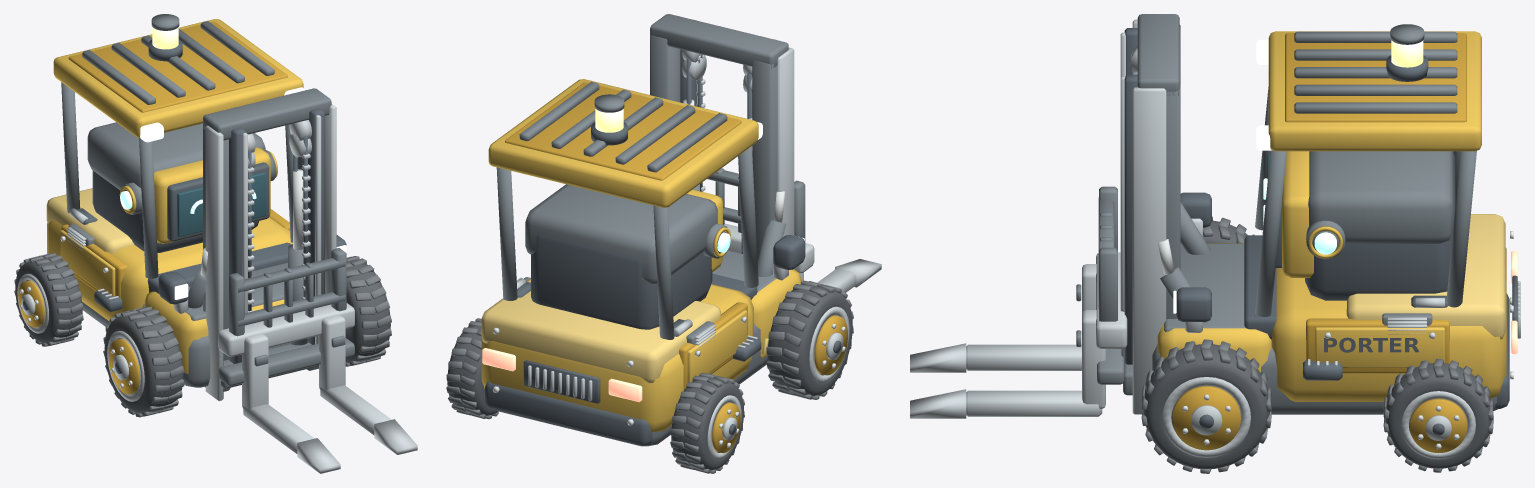
The model's file is porter_enhanced.glb.
3 renders of one model, left to right at view 1: azimuth 30°, elevation 25°; view 2: azimuth 150°, elevation 25°; view 3: azimuth 270°, elevation 25°, orthographic. The views are drawn at different scales.
Visible parts, largest first — view 1: Forks_steel, RoofInset_shadowpaint, OuterMast_steel, Roof_paint, LoadBackrest_frame, RobotCab_frame, Counterweight_paint, RoofRibs_frame, SafetyCage_frame, InnerMast_black, MastCrossbar_frame, Wheel_L_1_Tire_rubber (+36 smaller); view 2: RobotCab_black, RobotCab_frame, EngineCover_lightpaint, Roof_paint, Counterweight_paint, RoofInset_shadowpaint, SafetyCage_frame, OuterMast_frame, RoofRibs_frame, RearBumper_black, MastCrossbar_frame, Wheel_L_1_Tire_rubber (+30 smaller); view 3: RobotCab_frame, Forks_steel, Counterweight_paint, OuterMast_steel, Roof_paint, RoofRibs_frame, RoofInset_shadowpaint, RobotCab_black, EngineCover_lightpaint, SafetyCage_frame, Wheel_R_1_Tire_rubber, SidePanel_paint (+30 smaller).
Boxes of the visible parts, x1,y1,x2,y2 form: Forks_steel: (242, 314, 417, 473); RoofInset_shadowpaint: (68, 21, 287, 112); OuterMast_steel: (205, 104, 336, 400); Roof_paint: (53, 19, 303, 137); LoadBackrest_frame: (229, 248, 346, 336); RobotCab_frame: (87, 122, 265, 189); Counterweight_paint: (47, 217, 292, 320); RoofRibs_frame: (82, 21, 274, 104); SafetyCage_frame: (61, 82, 293, 278); InnerMast_black: (229, 108, 324, 363); MastCrossbar_frame: (203, 88, 331, 388); Wheel_L_1_Tire_rubber: (104, 310, 183, 413); RobotCab_black: (531, 234, 712, 329); RobotCab_frame: (525, 184, 717, 283); EngineCover_lightpaint: (481, 278, 720, 383); Roof_paint: (488, 79, 758, 207); Counterweight_paint: (481, 284, 753, 431); RoofInset_shadowpaint: (505, 82, 741, 180); SafetyCage_frame: (496, 146, 758, 339); OuterMast_frame: (650, 35, 777, 259); RoofRibs_frame: (519, 81, 727, 172); RearBumper_black: (485, 381, 652, 445); MastCrossbar_frame: (650, 14, 788, 68); Wheel_L_1_Tire_rubber: (767, 285, 852, 396); RobotCab_frame: (1308, 151, 1453, 243); Forks_steel: (910, 264, 1105, 418); Counterweight_paint: (1271, 247, 1506, 401); OuterMast_steel: (1132, 19, 1166, 414); Roof_paint: (1268, 31, 1481, 151); RoofRibs_frame: (1294, 31, 1457, 113); RoofInset_shadowpaint: (1285, 33, 1466, 122); RobotCab_black: (1305, 153, 1455, 300); EngineCover_lightpaint: (1346, 214, 1505, 339); SafetyCage_frame: (1255, 87, 1476, 316); Wheel_R_1_Tire_rubber: (1143, 344, 1269, 469); SidePanel_paint: (1315, 327, 1444, 367).
Size of the model in its own units: 1.75 by 1.97 by 2.92.
